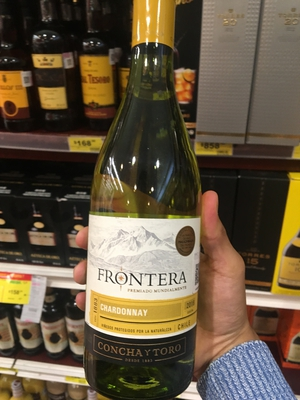frontera chardonnay: (75, 24, 222, 397)
